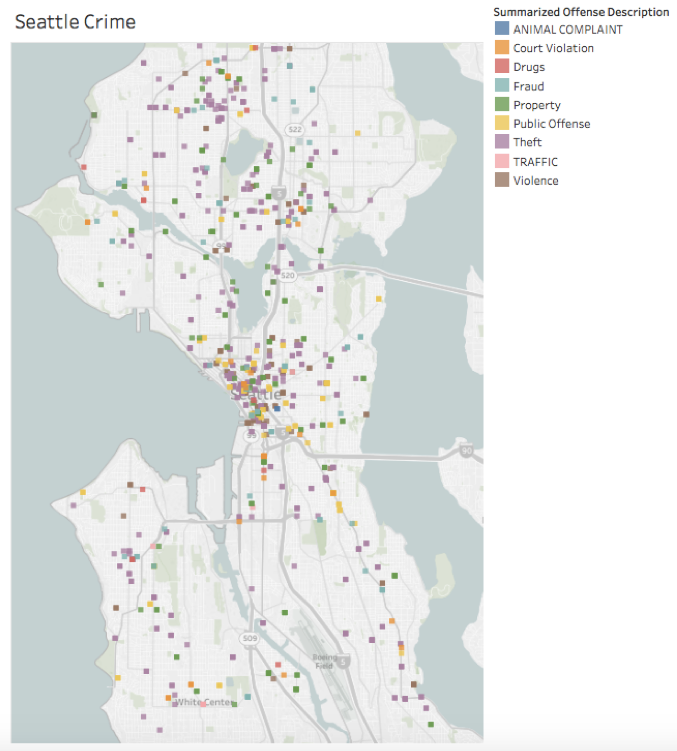

What the dashboard file says about the page in this screenshot:
{"tool":"tableau","page":{"name":"Dashboard 1","canvas":[1000,800],"ordinal":0},"visuals":[{"type":"worksheet","title":"Sheet 1","mark":"Shape","rows":["latitude"],"cols":["longitude"],"box":[0,0,512,800]},{"type":"legend","title":"Sheet 1","param":"[federated.0pm4z4c14kqtmh11lzm8r1h9iyi2].[none:summarized_offense_description:nk","box":[512,0,488,210]}]}

Visuals, with their boxes on the page's 1000x800 design canvas (x1, y1, x2, y2). These are canvas units, not pixel positions in the 677x751 screenshot, which may show the page scaled, cropped or inside an application window:
"Sheet 1" worksheet (Shape marks): region(0, 0, 512, 800)
"Sheet 1" legend: region(512, 0, 1000, 210)
